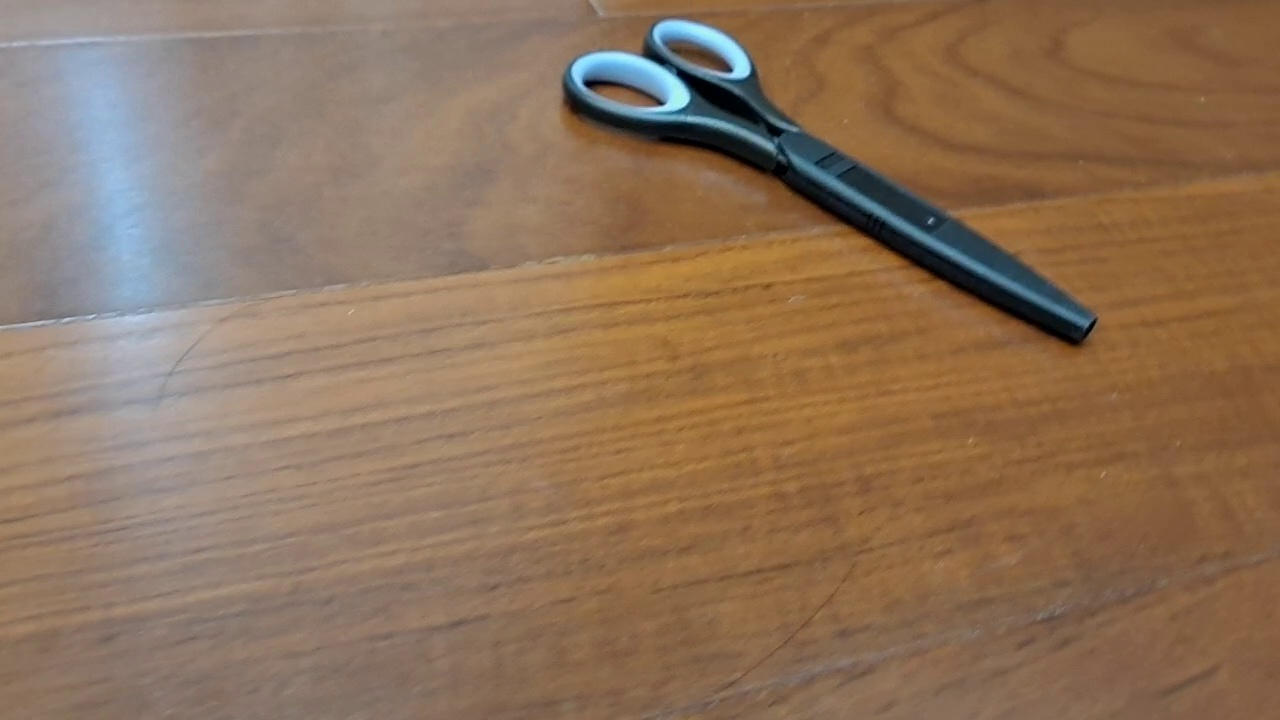scissors: (561, 16, 1100, 347)
